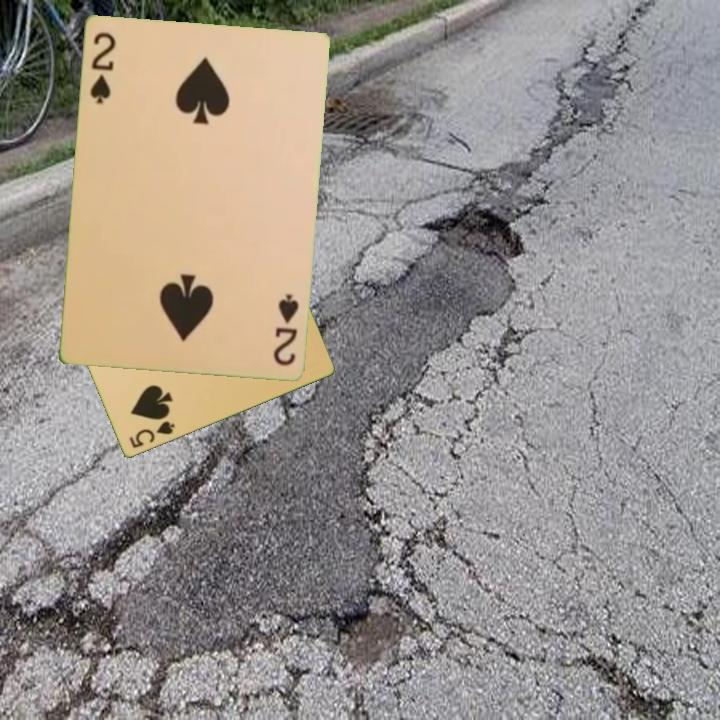2s: (269, 290, 302, 368), (86, 28, 118, 106)
5s: (126, 418, 178, 451)
